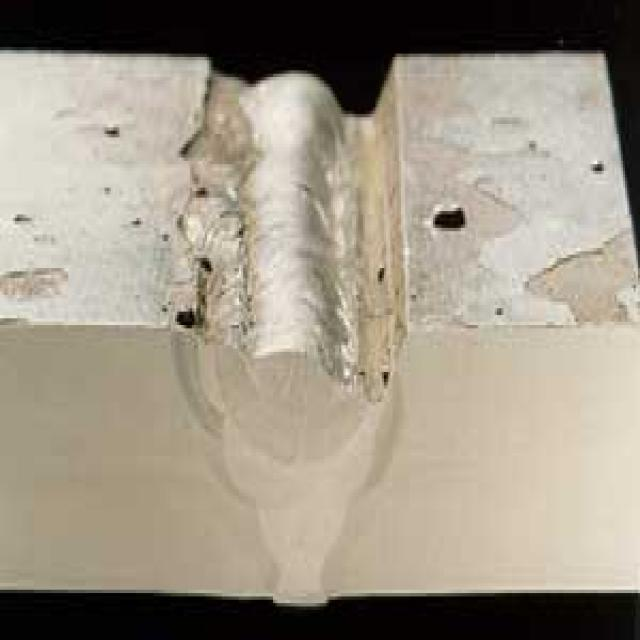Bad Weld: (183, 70, 412, 543)
